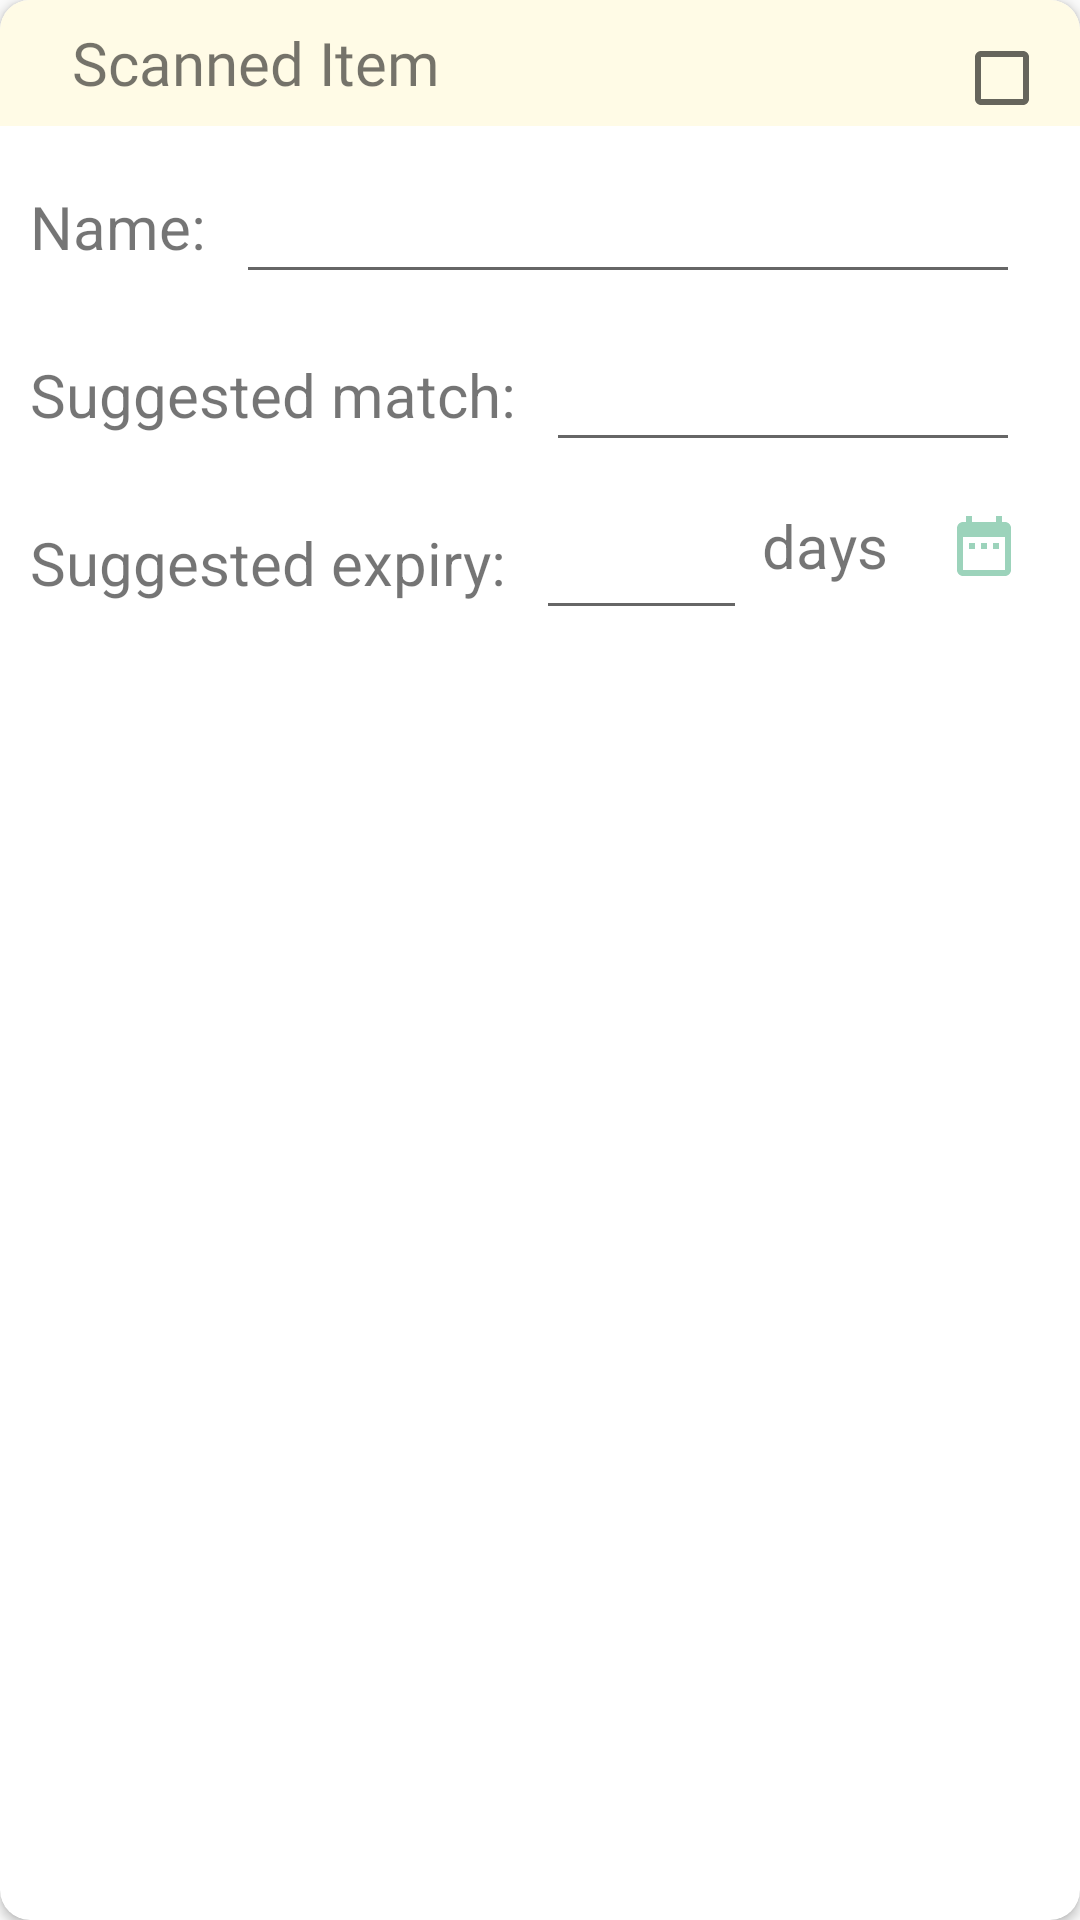

Where to tap for icons on this 1080×1920 app screen, as point (x, y):
date range: point (984, 546)
